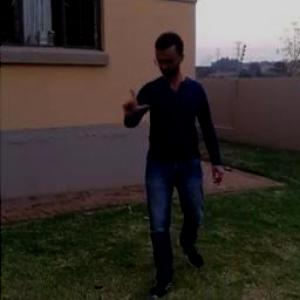land_hand: (121, 82, 157, 122)
